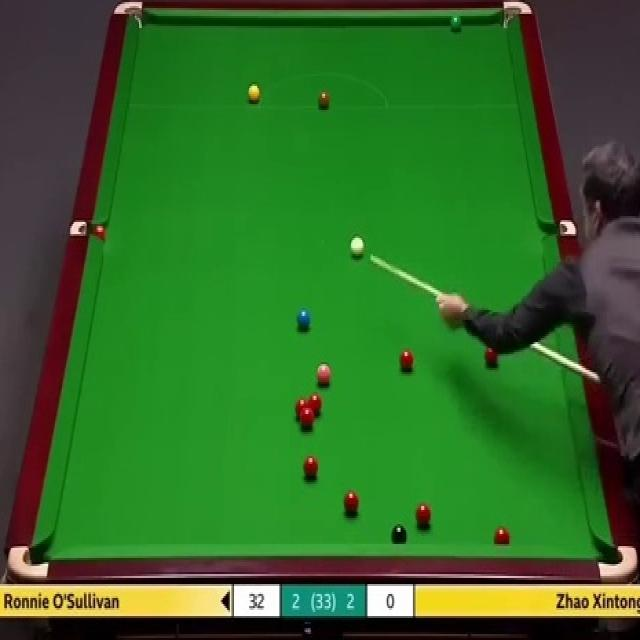pocket: (6, 543, 49, 580), (597, 544, 637, 582), (114, 0, 148, 28), (502, 0, 532, 31), (541, 220, 575, 237), (69, 222, 105, 238)
